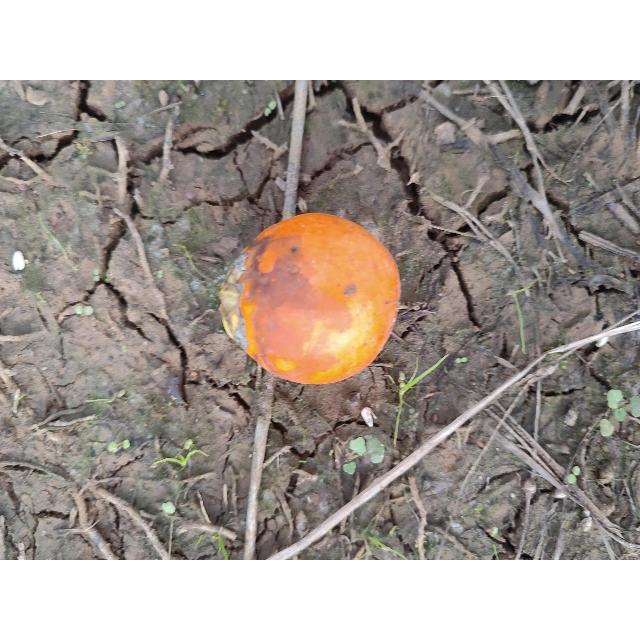good: (219, 212, 402, 387)
